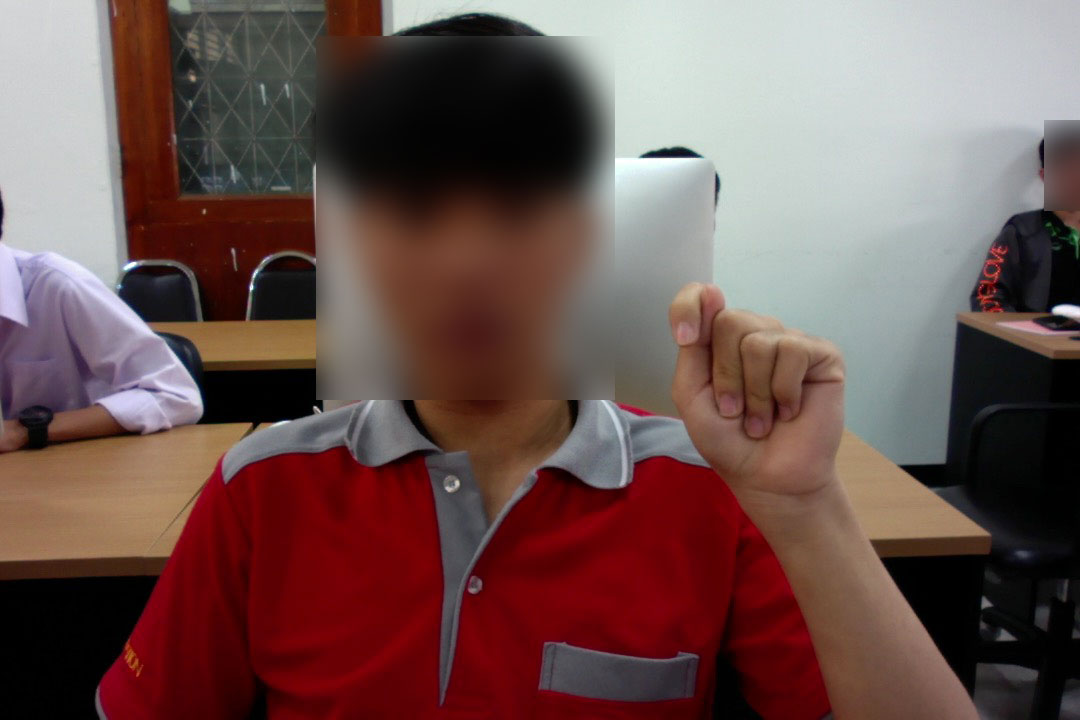tor: (662, 280, 853, 512)
